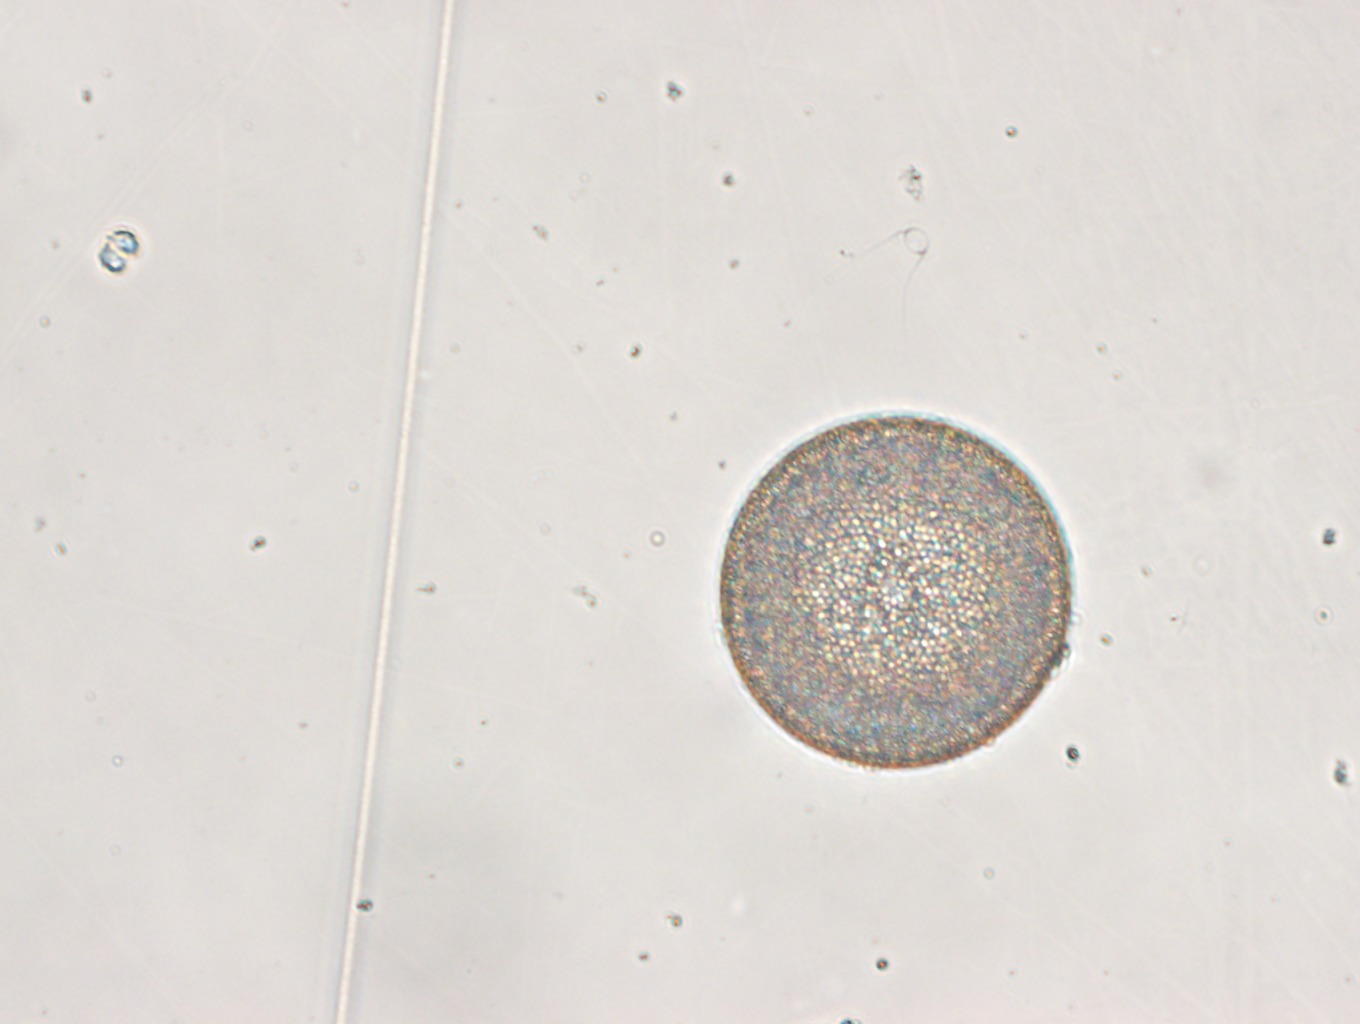coscinodiscus: (720, 412, 1076, 772)
